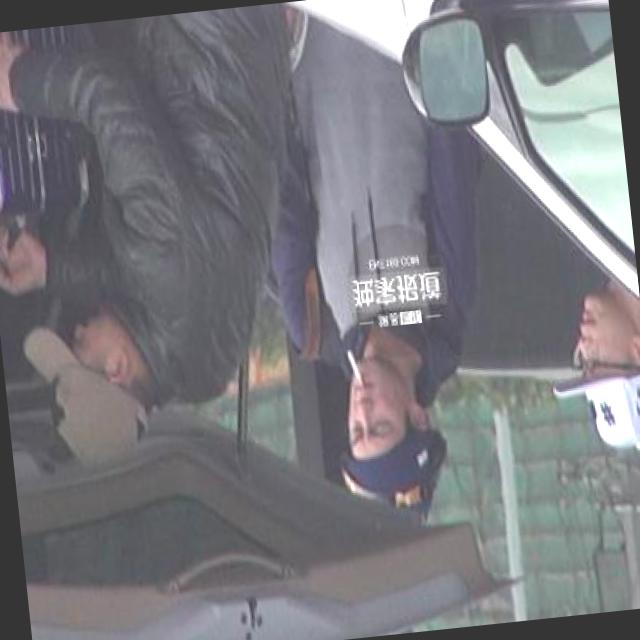cigarette: (342, 348, 362, 392)
